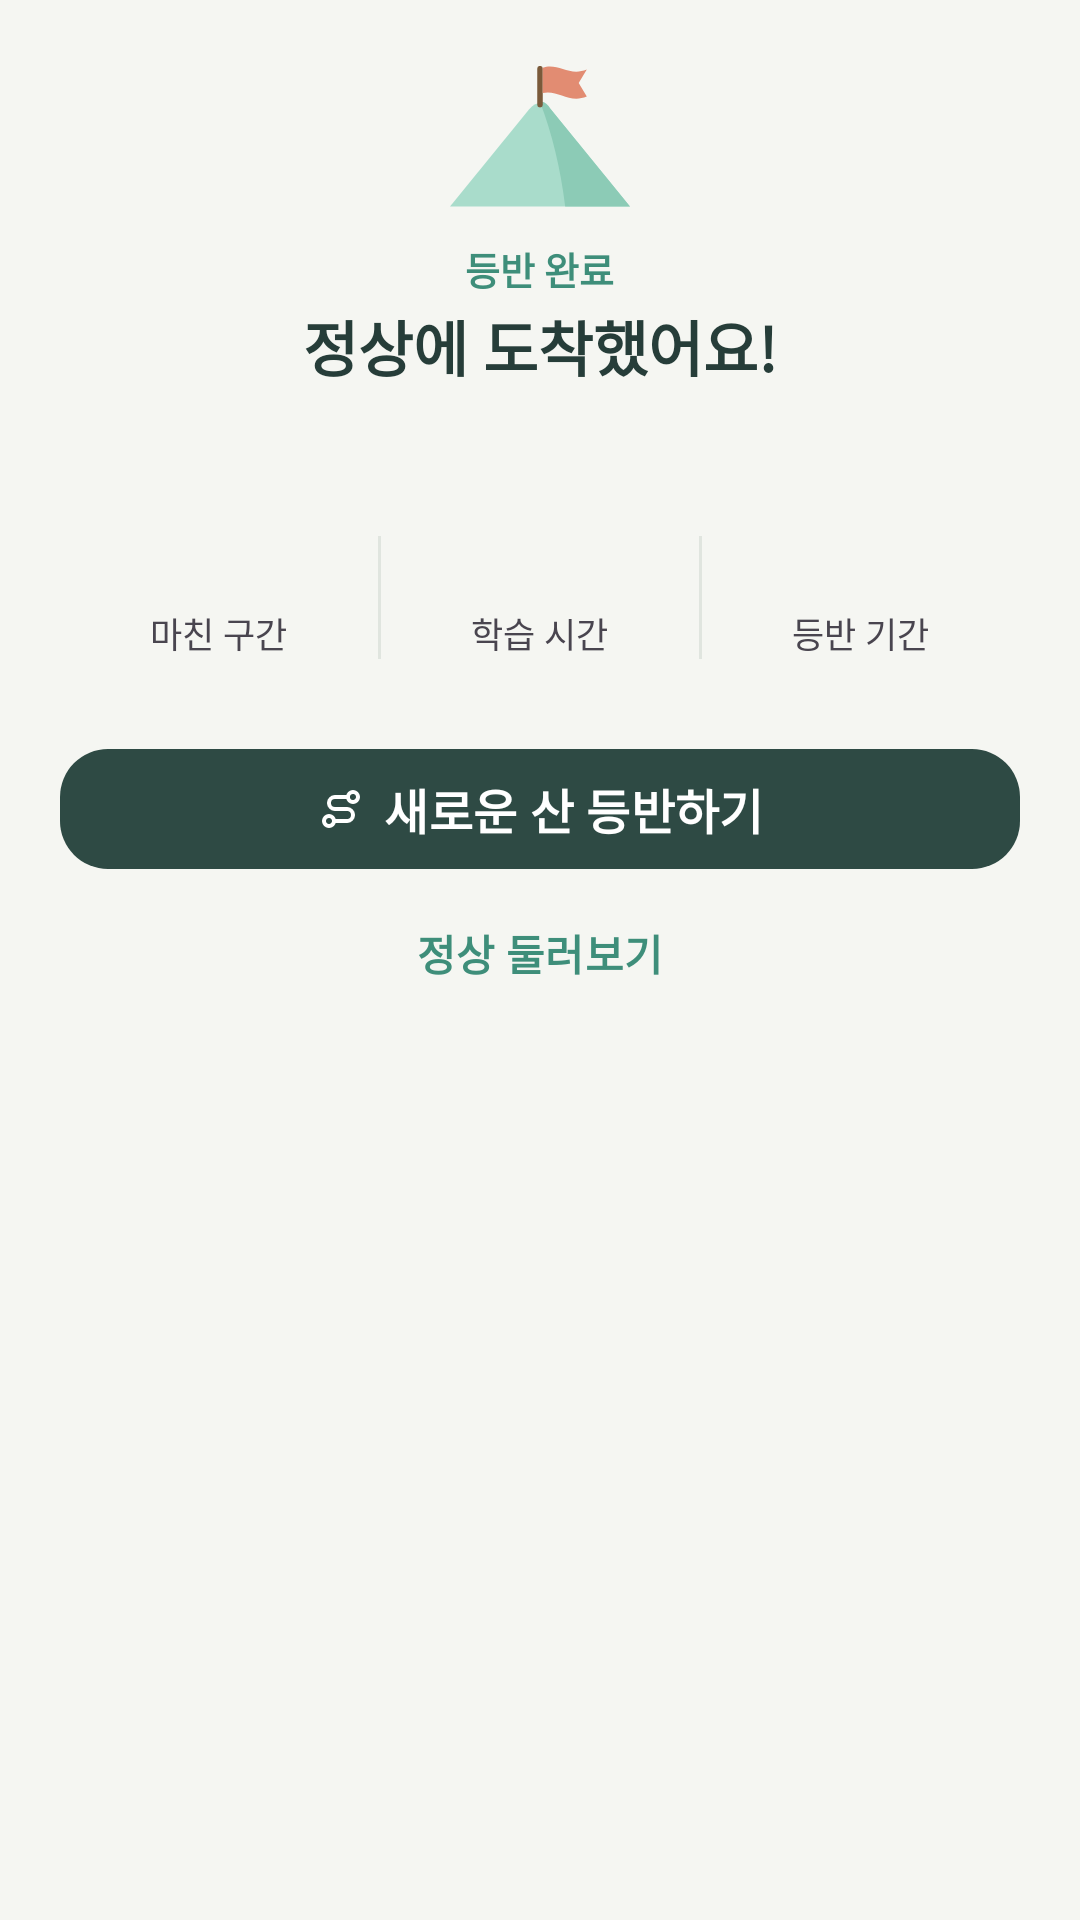

Point at icon controls on the screen. Image size 1080x1920, points as (x,y).
summit: (540,136)
